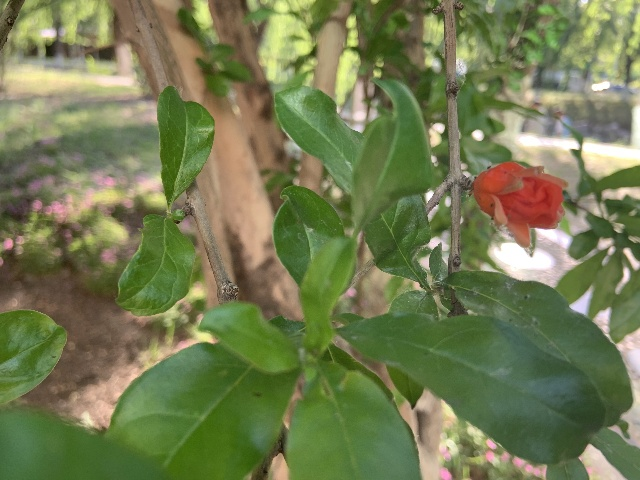flower: (472, 161, 567, 248)
